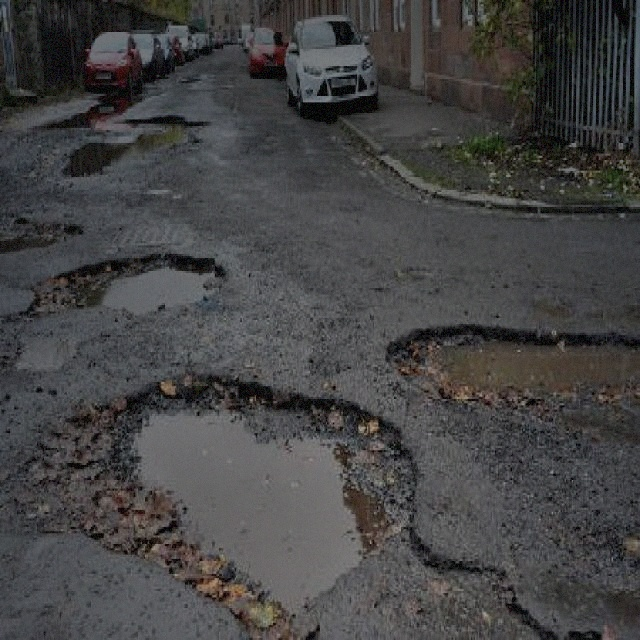pothole: (26, 365, 428, 638), (382, 318, 638, 414), (18, 248, 229, 324), (121, 111, 209, 154), (0, 213, 82, 258), (58, 132, 125, 184)
